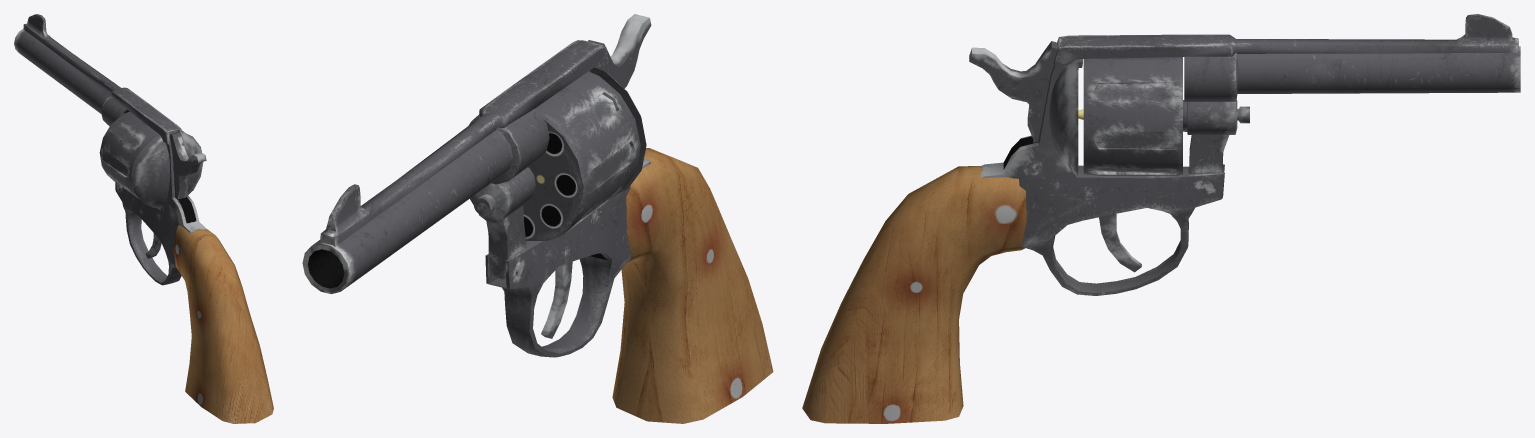
File: gun.fbx
3 renders of one model, left to right at view 1: azimuth 30°, elevation 25°; view 2: azimuth 150°, elevation 25°; view 3: azimuth 270°, elevation 25°, orthographic. The views are drawn at different scales.
Visible parts, largest first — view 1: gun; view 2: gun; view 3: gun.
Boxes of the visible parts, x1=… form: gun: x1=14, y1=14, x2=273, y2=423; gun: x1=302, y1=14, x2=773, y2=423; gun: x1=802, y1=14, x2=1520, y2=423.
Bounding box in the file's own units: 0.0871 × 0.29 × 0.4787.
